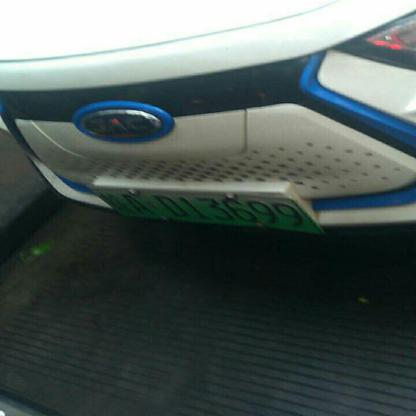lp: (87, 189, 321, 234)
